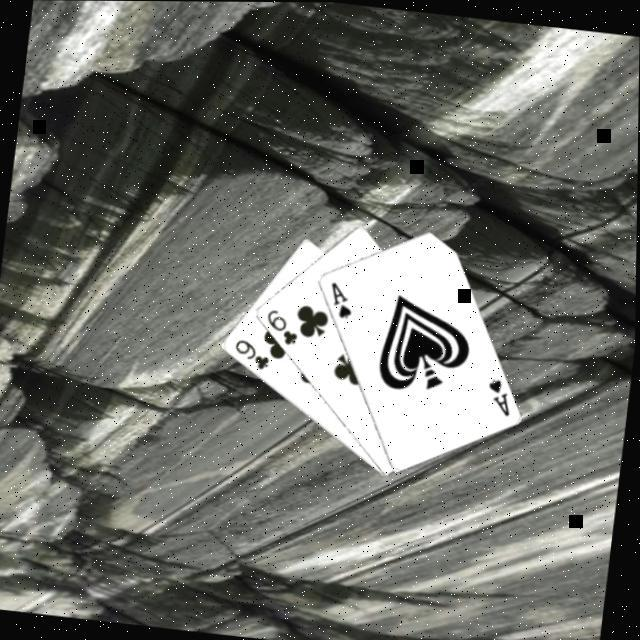6C: (262, 304, 305, 348)
9C: (230, 333, 275, 371)
AS: (483, 372, 518, 417), (325, 275, 359, 320)
